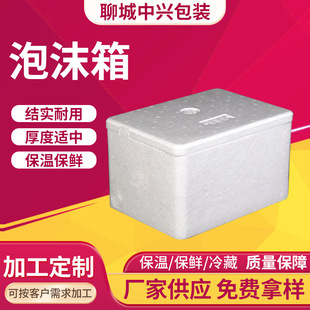Boxes: (106, 89, 291, 239)
